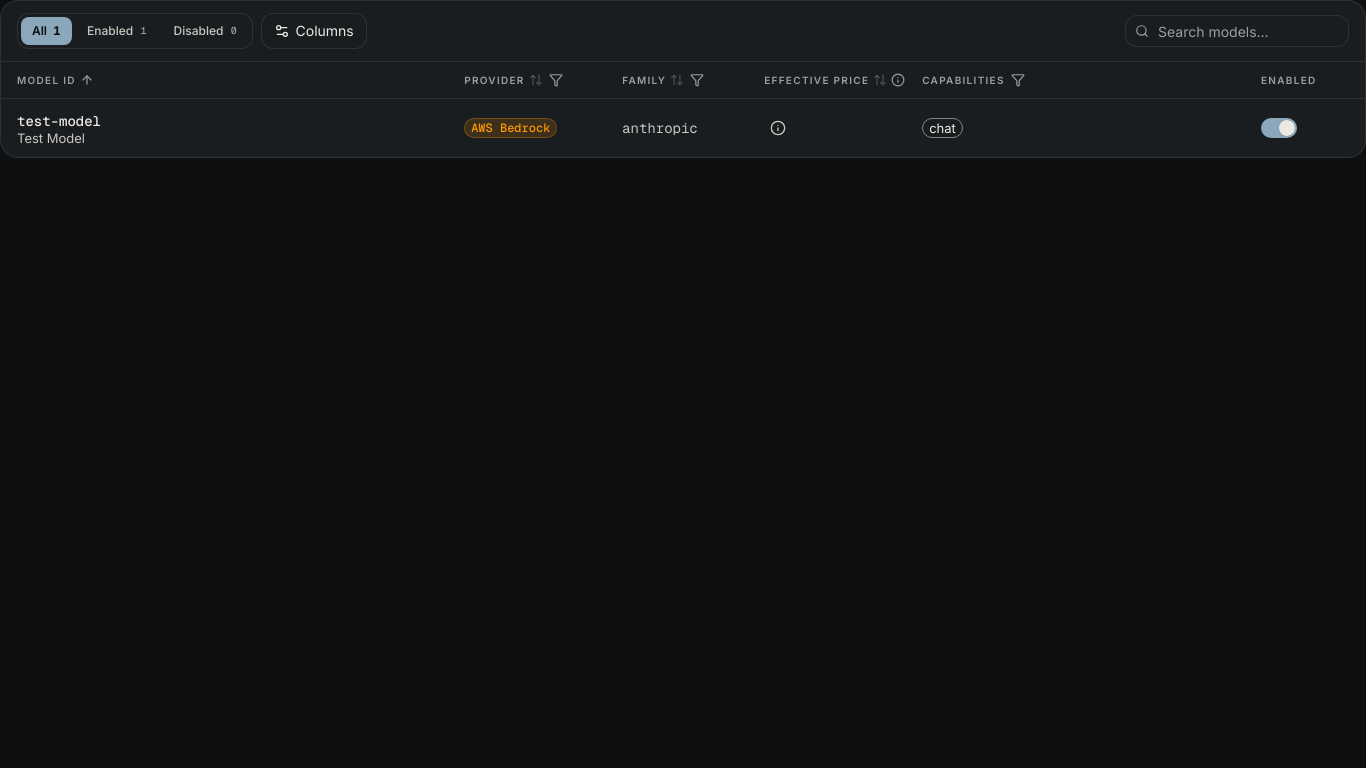
Test: Detail overlay token rows › labels image dimensions with the per-image unit
This screenshot has width=1366, height=768.
Click the text "test-model": click(59, 122) [17, 111, 101, 132]
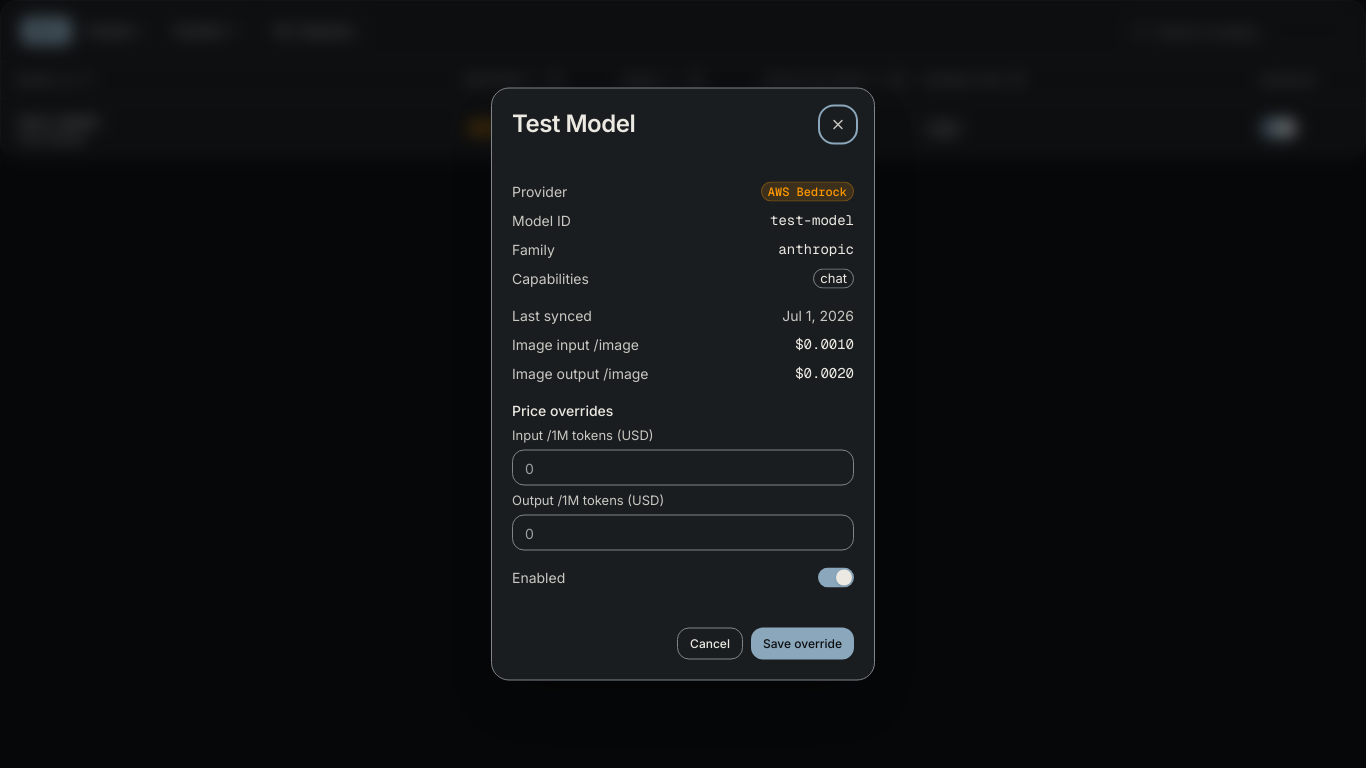
Now the text "Image input /image" is shown, box [512, 334, 639, 354]
Now the text "Image output /image" is shown, box [512, 362, 648, 384]
